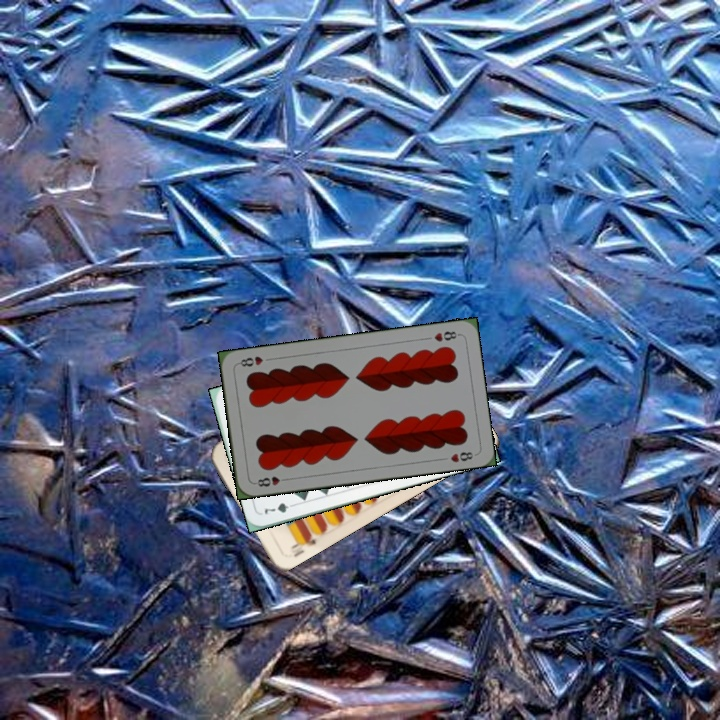E10: (286, 530, 319, 552)
G7: (260, 499, 299, 517)
H8: (251, 472, 291, 489), (430, 327, 462, 344)
